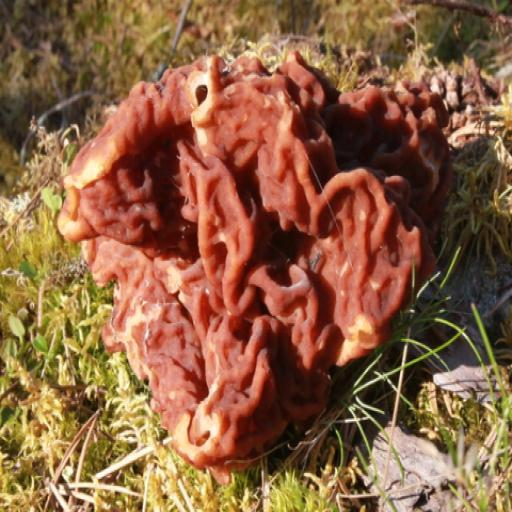mushroom: (61, 48, 455, 472)
